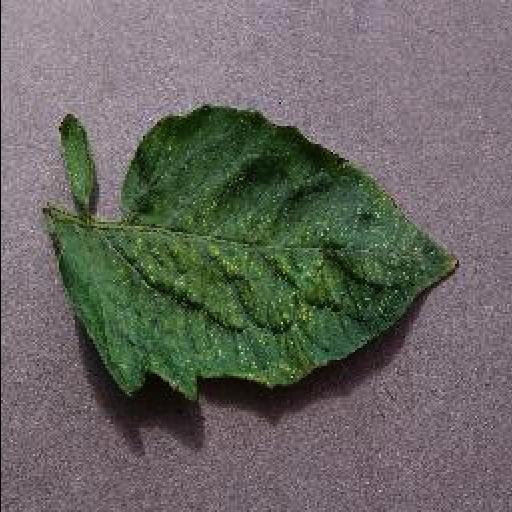disease_tomato: (50, 105, 458, 403)
